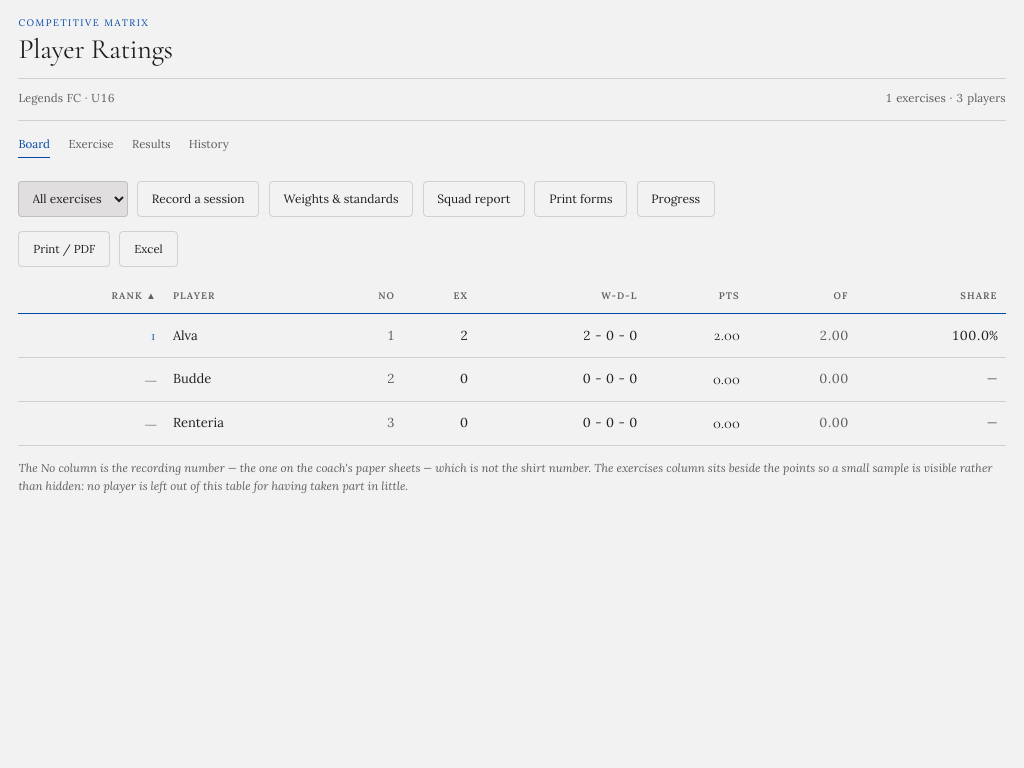
Test: the reports › opens the squad report on this team
Click the button "Squad report" at [474, 199], box [422,181,525,217]
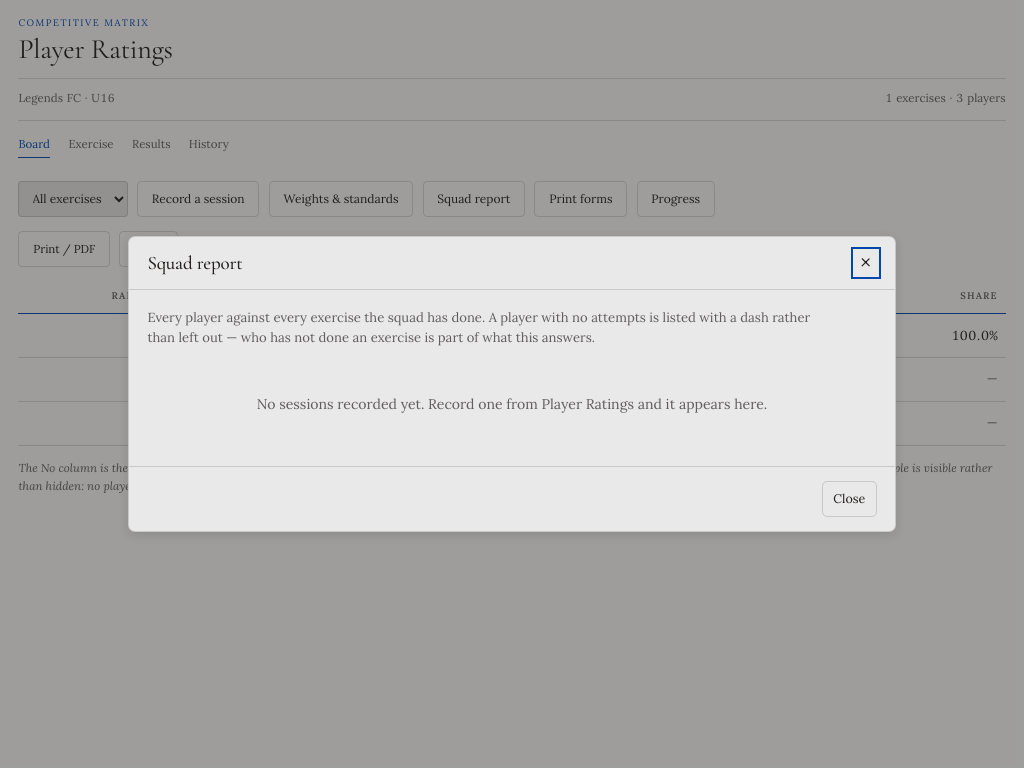
Expected: the dialog shows "Squad report", [147,251,242,274]
